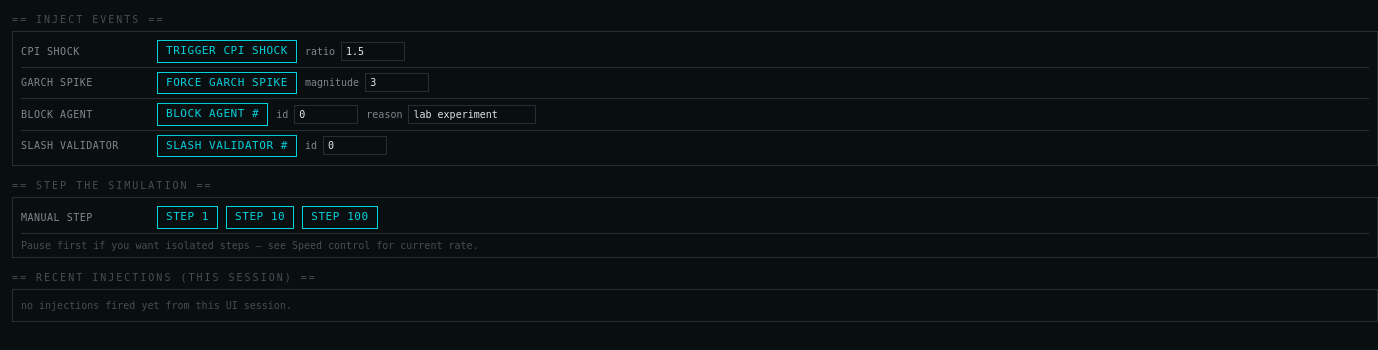
Test: LabPanel › recent injections list updates after a successful POST
The width and height of the screenshot is (1378, 350).
expect the text "no injections fired yet from this UI session." is shown: met, box x1=21 y1=300 x2=292 y2=310
Click the button "trigger cpi shock": (227, 51) x1=157 y1=40 x2=297 y2=62
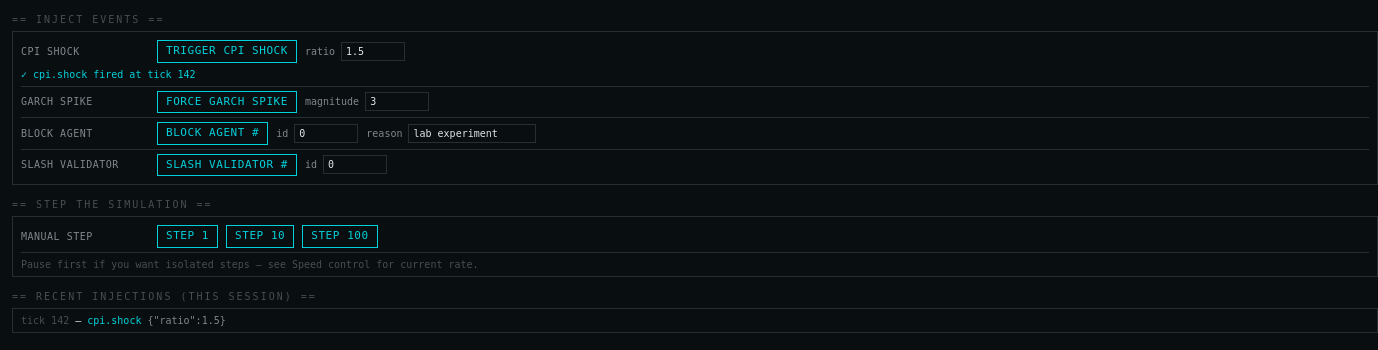
expect the text "✓ cpi.shock fired at tick 142" is shown: met, box x1=21 y1=68 x2=196 y2=80
expect the text "cpi.shock" is shown: met, box x1=87 y1=314 x2=141 y2=326
expect the text "{\"ratio\":1.5}" is shown: met, box x1=148 y1=314 x2=226 y2=326
